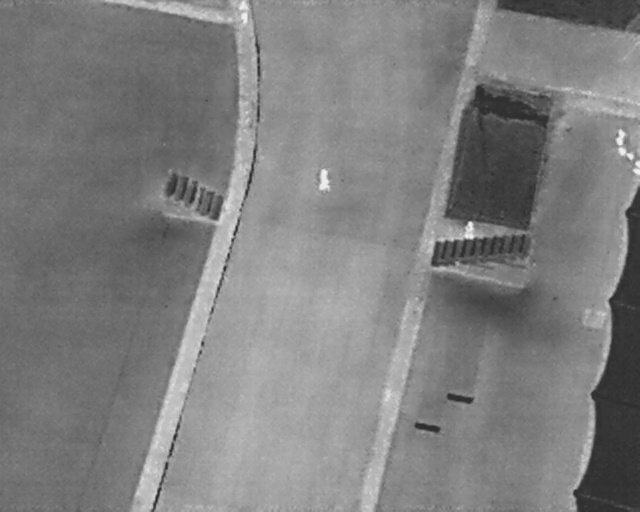Person: (239, 0, 252, 23), (319, 167, 330, 193), (466, 219, 475, 239)
